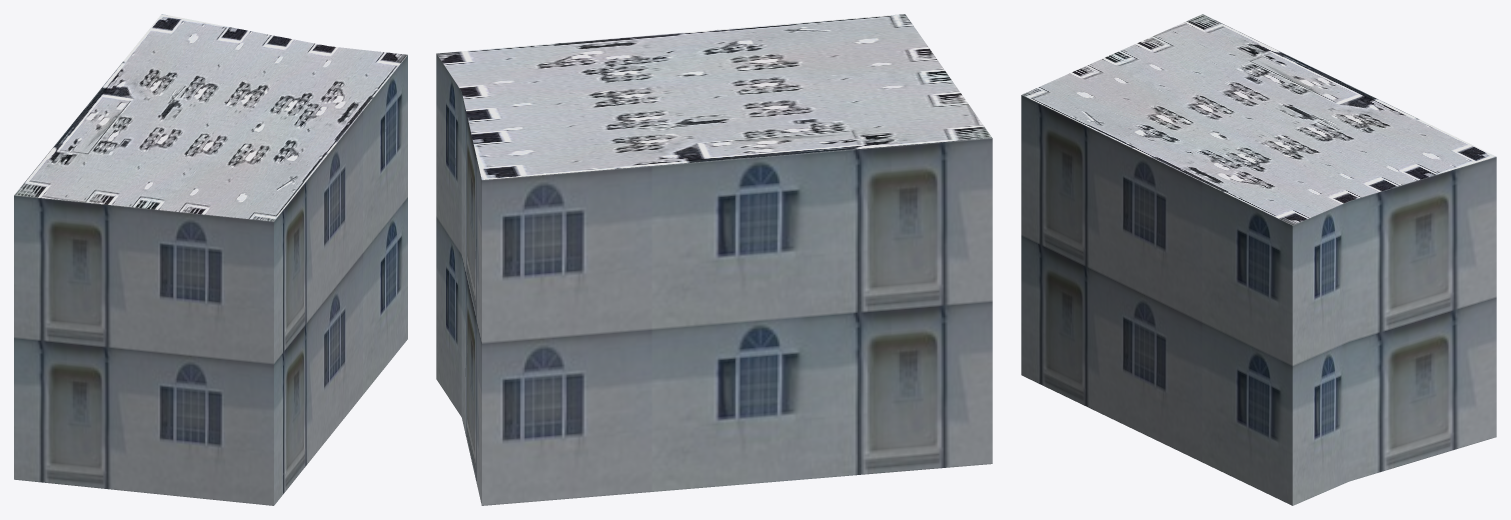
The model's file is ResTex__4808.fbx.
The picture shows the model from 3 angles, left to right: view 1: azimuth 30°, elevation 25°; view 2: azimuth 150°, elevation 25°; view 3: azimuth 270°, elevation 25°; orthographic projection. The views are drawn at different scales.
Visible parts, largest first — view 1: CityEngineMaterial_17_m, CityEngineMaterial_8_m; view 2: CityEngineMaterial_17_m, CityEngineMaterial_8_m; view 3: CityEngineMaterial_17_m, CityEngineMaterial_8_m.
Boxes of the visible parts, x1,y1,x2,y2 form: CityEngineMaterial_17_m: (14,55,407,505); CityEngineMaterial_8_m: (14,14,407,221); CityEngineMaterial_17_m: (436,53,992,505); CityEngineMaterial_8_m: (436,14,991,179); CityEngineMaterial_17_m: (1021,95,1496,505); CityEngineMaterial_8_m: (1022,14,1495,225).
Bounding box in the file's own units: 9.71 × 6 × 9.21.
Materials: 2 (2 with a texture image).
